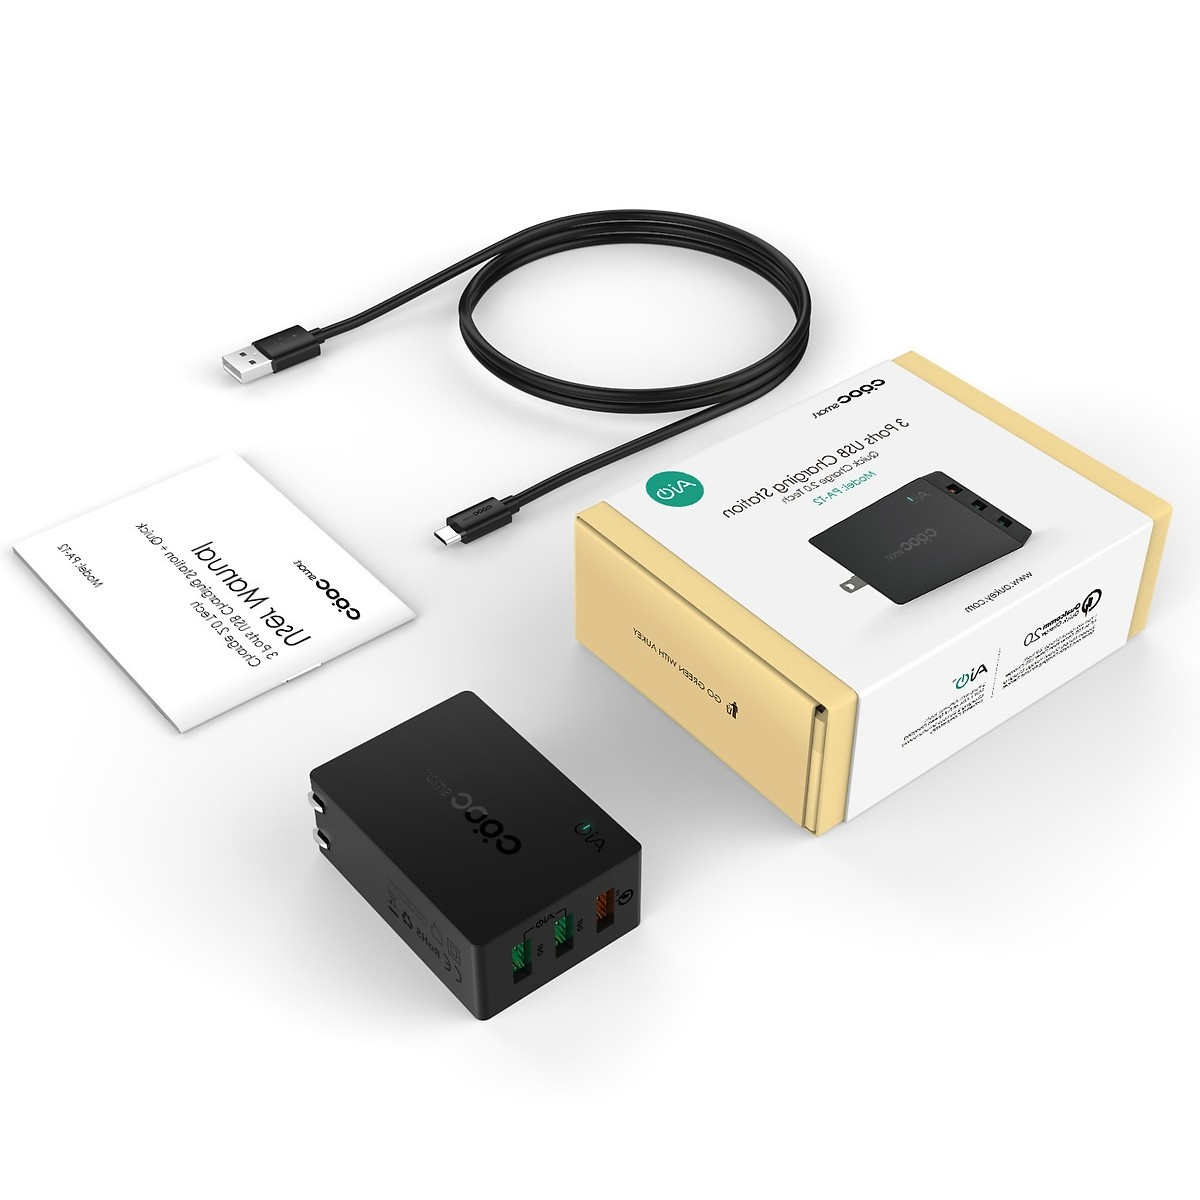Aukey: (301, 712, 619, 921), (921, 548, 1049, 669)
